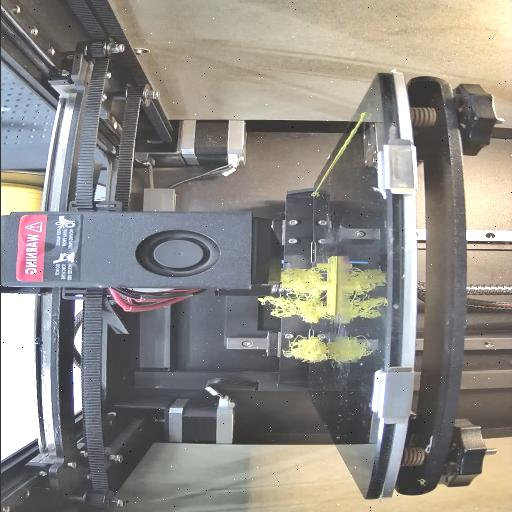spaghetti: (263, 268, 319, 318), (284, 334, 328, 369)
